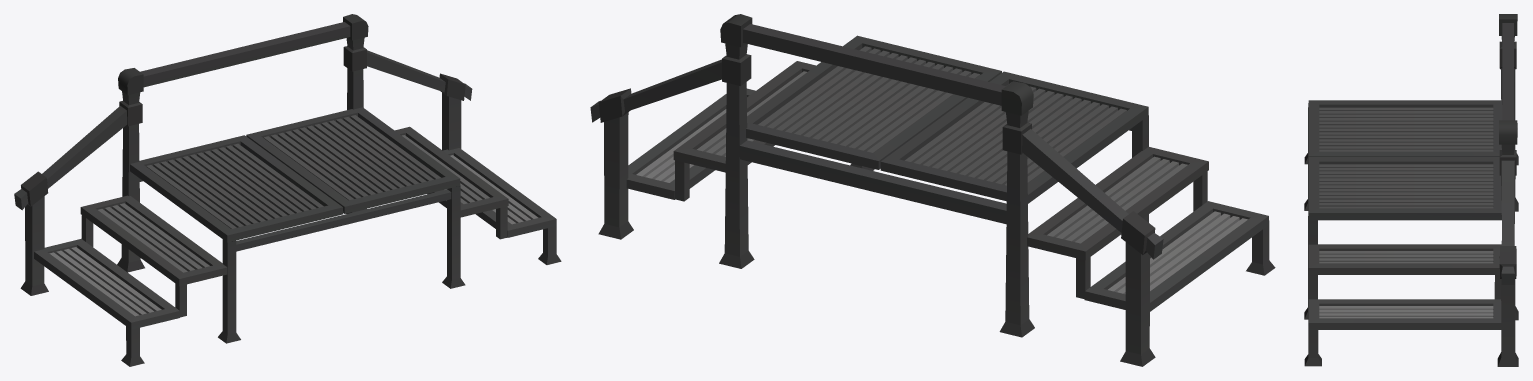
Rendered from Stairs_1_G.fbx.
3 renders of one model, left to right at view 1: azimuth 30°, elevation 25°; view 2: azimuth 150°, elevation 25°; view 3: azimuth 270°, elevation 25°, orthographic. The views are drawn at different scales.
Parts seen in each view (by area): view 1: Stairs_1_G; view 2: Stairs_1_G; view 3: Stairs_1_G.
Boxes of the visible parts, x1,y1,x2,y2 form: Stairs_1_G: [14, 14, 561, 366]; Stairs_1_G: [590, 14, 1275, 366]; Stairs_1_G: [1304, 14, 1518, 366].
Size of the model in its own units: 307 by 126 by 127.
